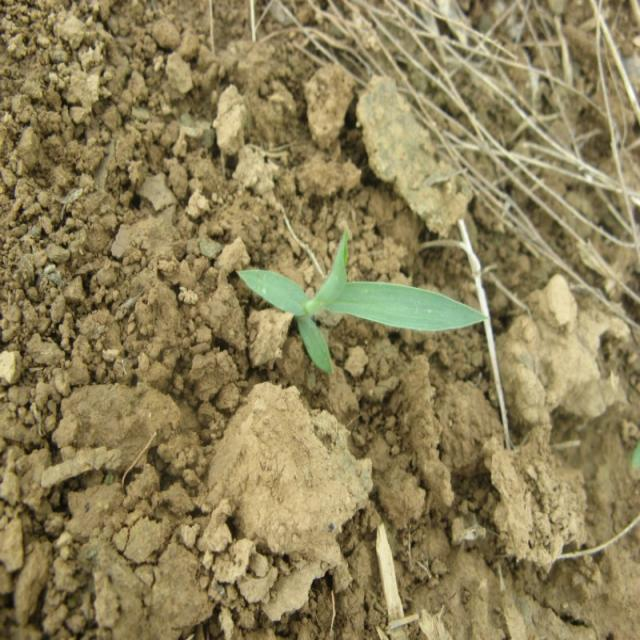bg: (240, 228, 487, 370)
